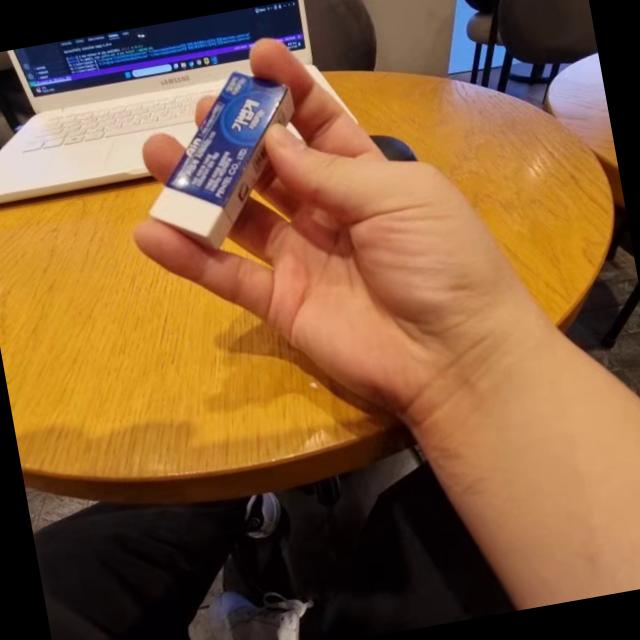eraser: (126, 30, 341, 256)
grab_eraser: (114, 11, 510, 416)
